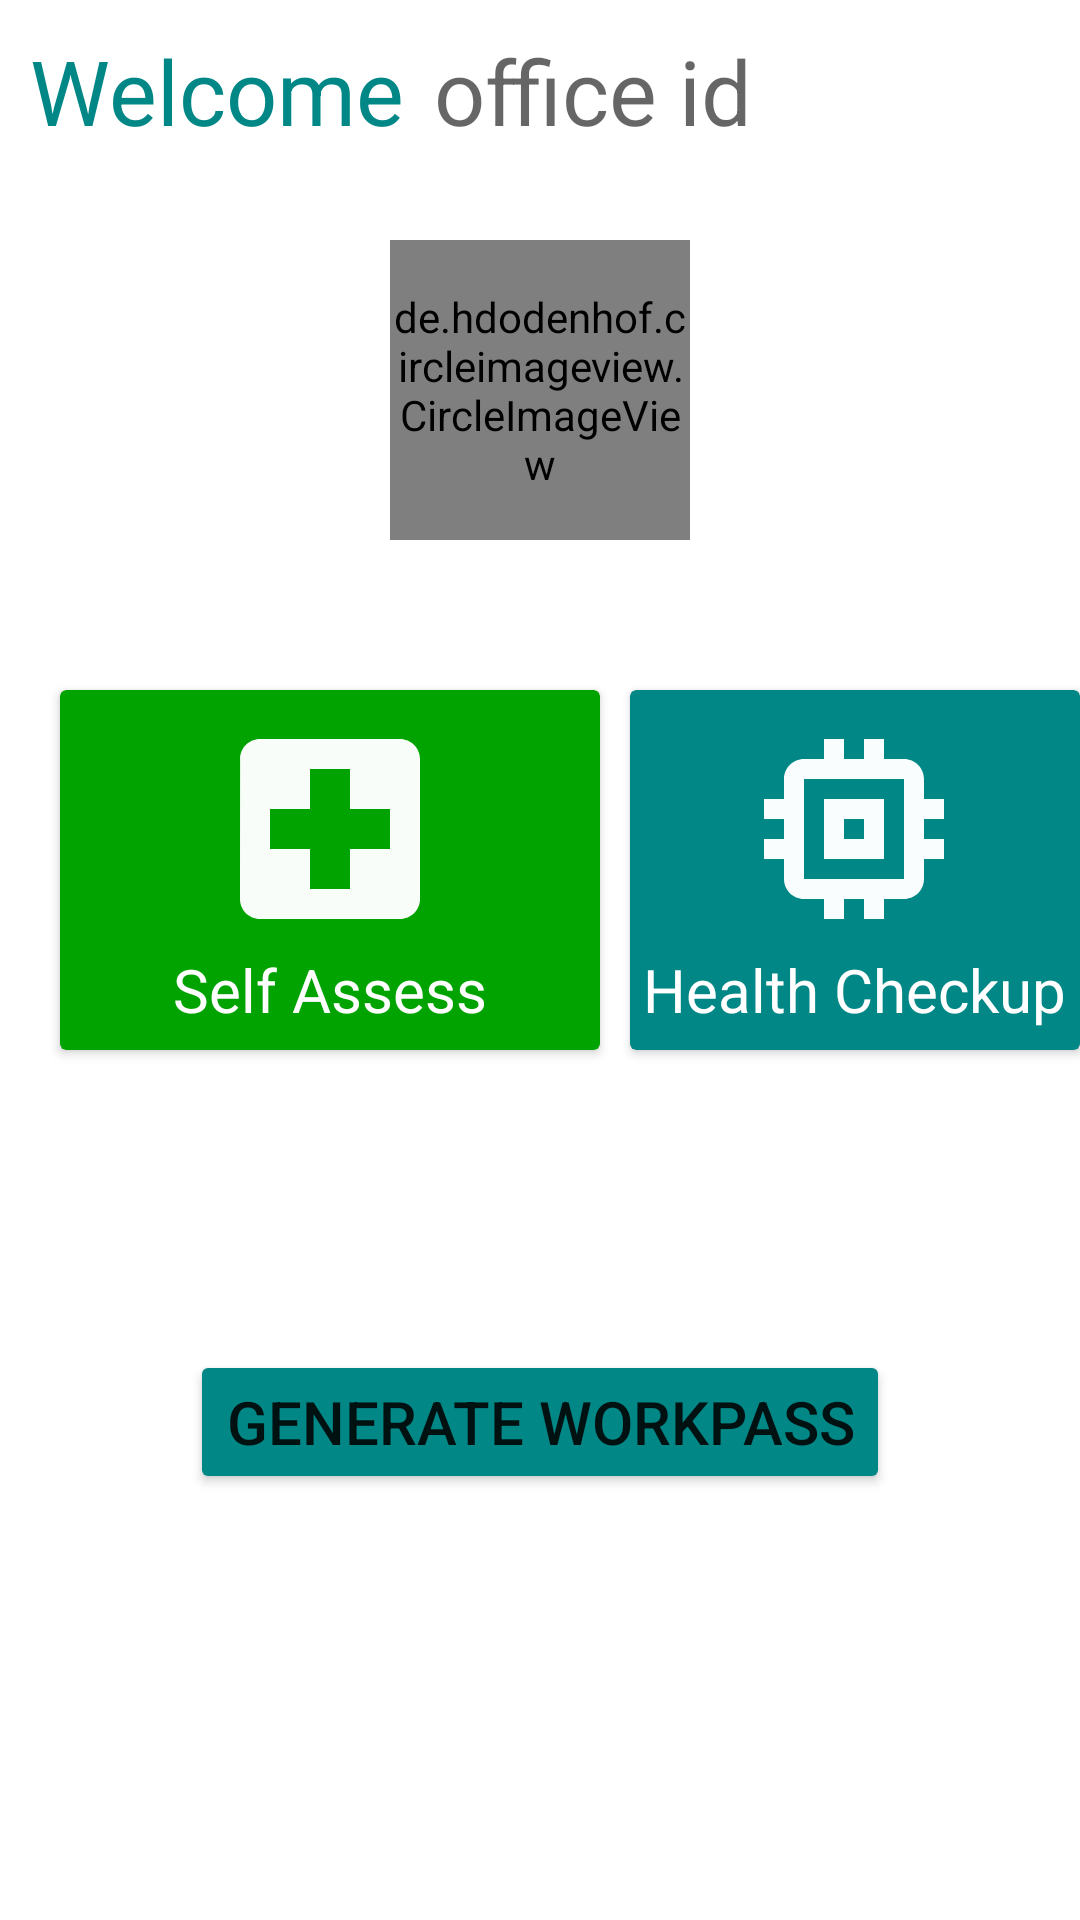

Named icons in this screenshot (1080 x 1920) and their centers, [x,y]:
plus: [330,829]
